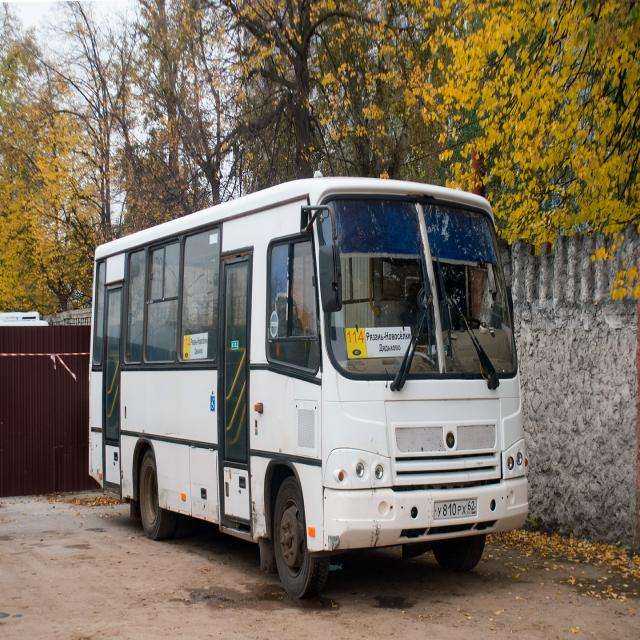number-of-bus: (347, 329, 366, 347), (185, 337, 192, 349)
